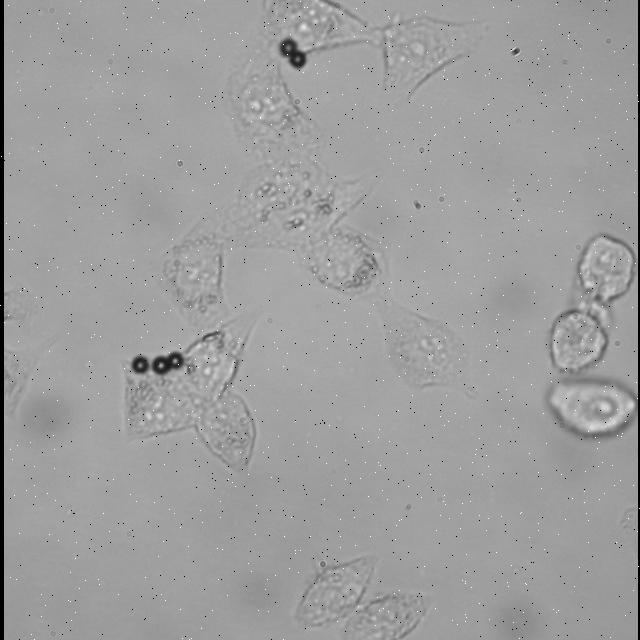microbeads: (286, 48, 312, 74), (147, 356, 171, 382), (126, 352, 150, 378), (166, 346, 188, 374)
